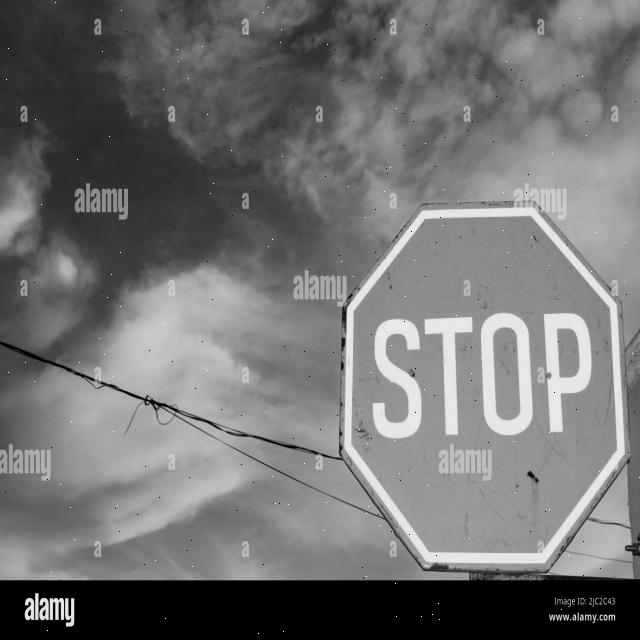Stop-sign: (326, 168, 636, 572)
